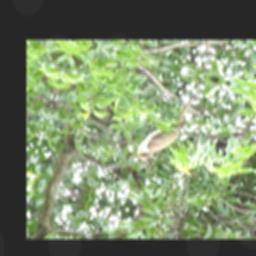Cuckoo: (128, 79, 199, 171)
